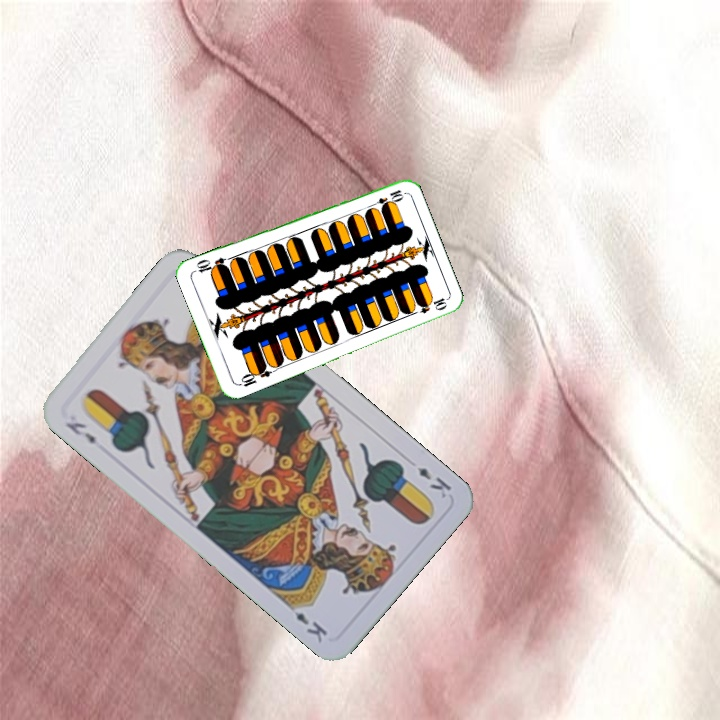E10: (366, 185, 406, 211), (235, 362, 273, 389)
EK: (413, 463, 454, 501), (61, 418, 99, 447)
